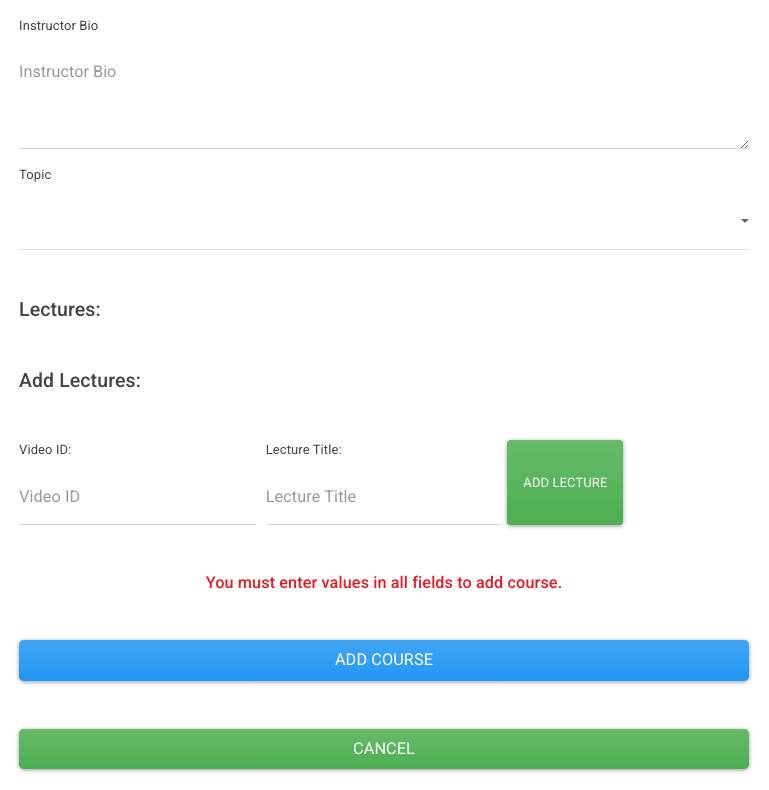
Scenario: Add.vue › displays add lecture error message if missing fields
The width and height of the screenshot is (769, 790).
(page scrolled)
Click the button with id "addLectureButton" at (565, 483), box [507,440,623,525]
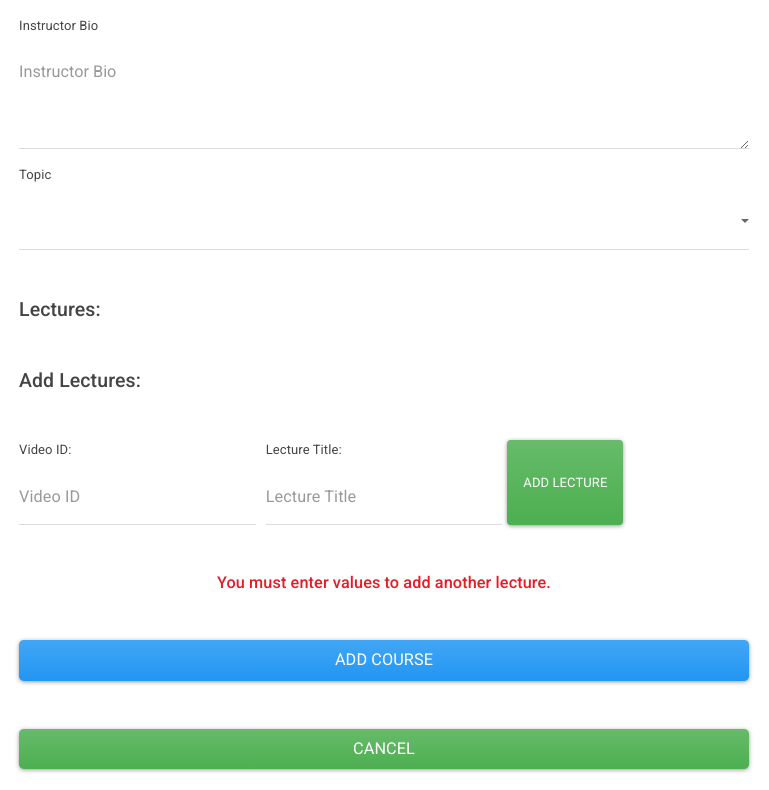
Expected: the text with id "addCourseFeedback" reads "You must enter values to add another lecture.", [217,573,551,592]
